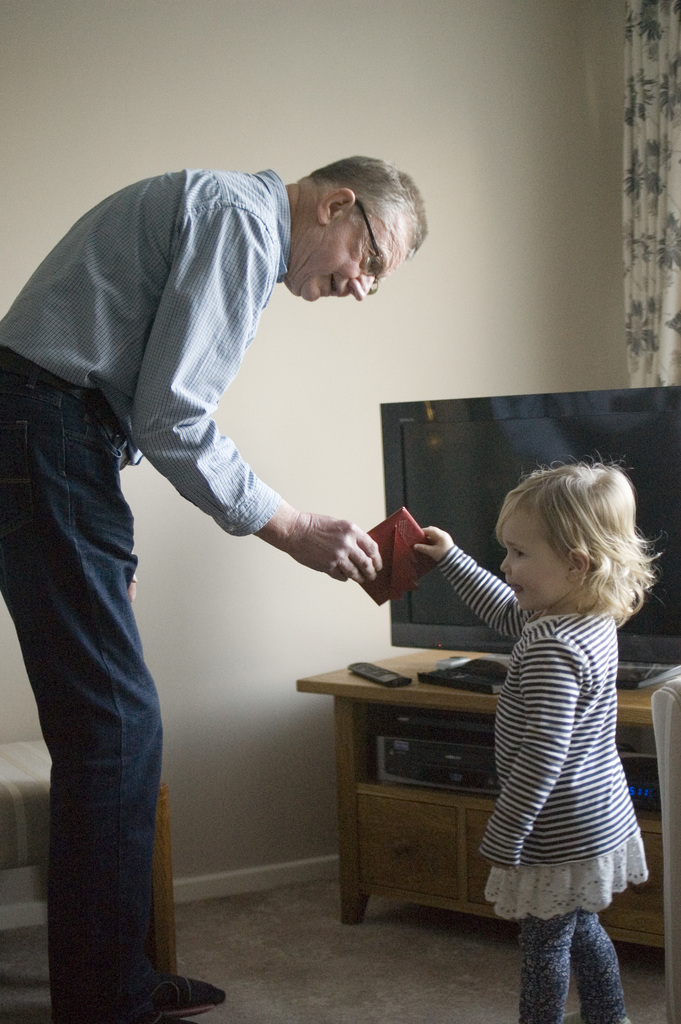cabinet door: (359, 802, 449, 886)
